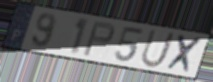1: (71, 17, 90, 56)
5: (113, 26, 146, 63)
9: (30, 12, 57, 50)
P: (81, 20, 117, 58)
U: (139, 28, 178, 70)
X: (164, 33, 205, 76)
